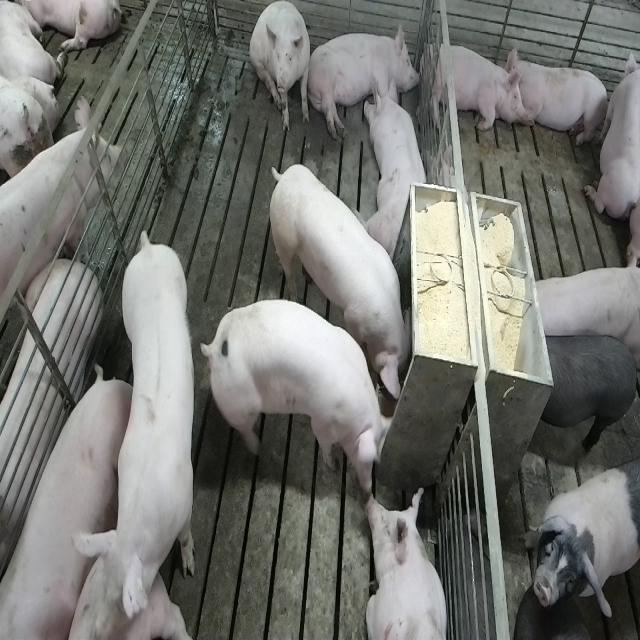Feeding: (200, 298, 398, 502), (264, 162, 411, 403)
Lateral_lying: (0, 368, 131, 640), (0, 262, 99, 604), (307, 20, 422, 141)
Sitting: (250, 1, 312, 134)
Standing: (97, 228, 200, 630), (0, 100, 123, 345), (528, 466, 638, 618), (530, 330, 638, 463), (525, 264, 637, 360)
Sternal_lying: (362, 486, 449, 640), (367, 74, 431, 259), (508, 50, 612, 150), (585, 39, 637, 234), (425, 37, 522, 134)
